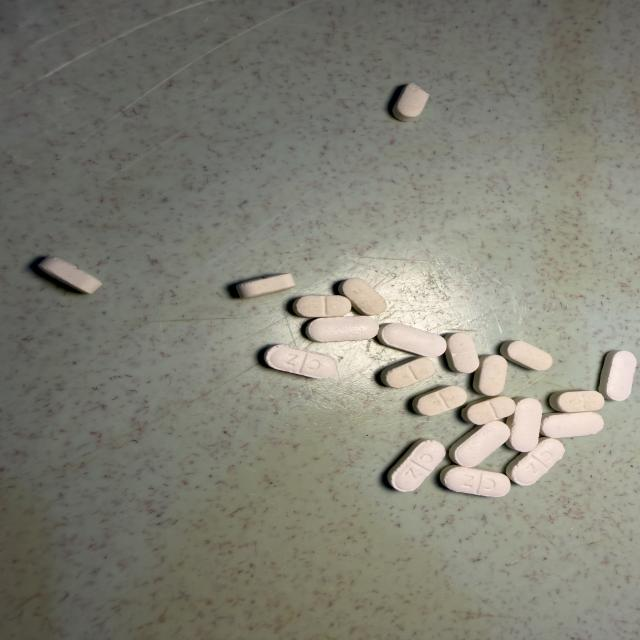pill: (388, 440, 445, 491), (449, 421, 510, 466), (506, 438, 564, 485), (264, 345, 336, 378), (378, 323, 446, 357), (38, 257, 102, 293), (440, 465, 510, 496), (506, 398, 542, 451), (306, 316, 378, 342), (599, 351, 636, 400), (339, 278, 386, 315), (540, 412, 603, 438), (381, 358, 435, 388), (413, 386, 466, 416), (501, 341, 552, 370), (462, 397, 515, 424), (236, 274, 295, 298), (473, 355, 507, 395), (392, 84, 428, 121), (446, 333, 479, 373), (293, 296, 351, 317), (549, 391, 604, 412)
